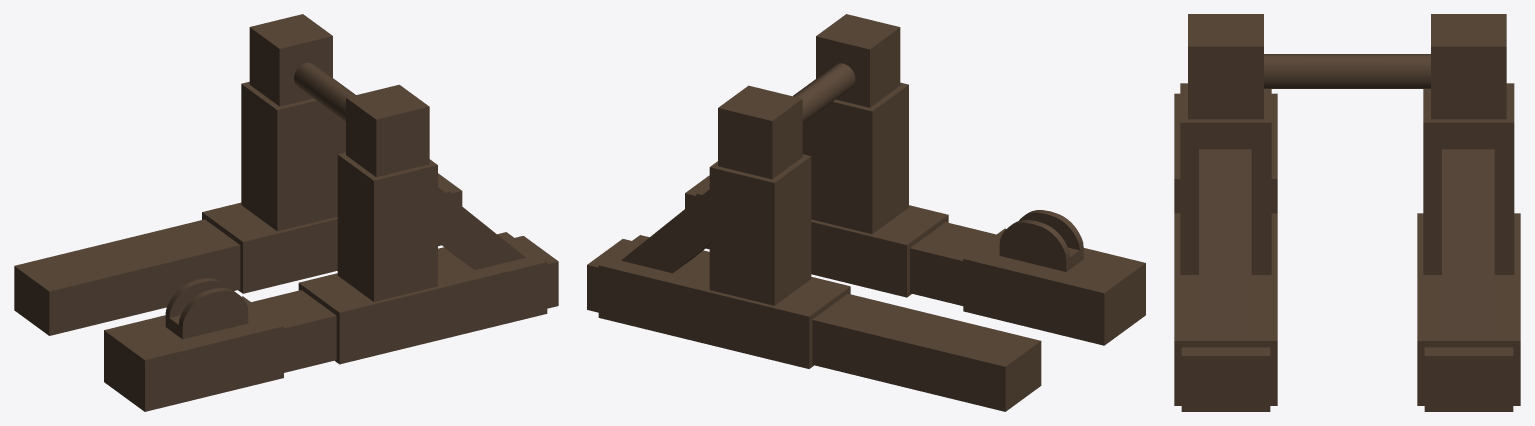
The model's file is catapult_base.obj.
3 renders of one model, left to right at view 1: azimuth 30°, elevation 25°; view 2: azimuth 150°, elevation 25°; view 3: azimuth 270°, elevation 25°, orthographic. The views are drawn at different scales.
Parts seen in each view (by area): view 1: catapult_base; view 2: catapult_base; view 3: catapult_base.
Boxes of the visible parts, x1,y1,x2,y2 form: catapult_base: (14,14,558,411); catapult_base: (587,14,1145,411); catapult_base: (1174,14,1520,411).
Bounding box in the file's own units: 4498 × 2378 × 2569.
